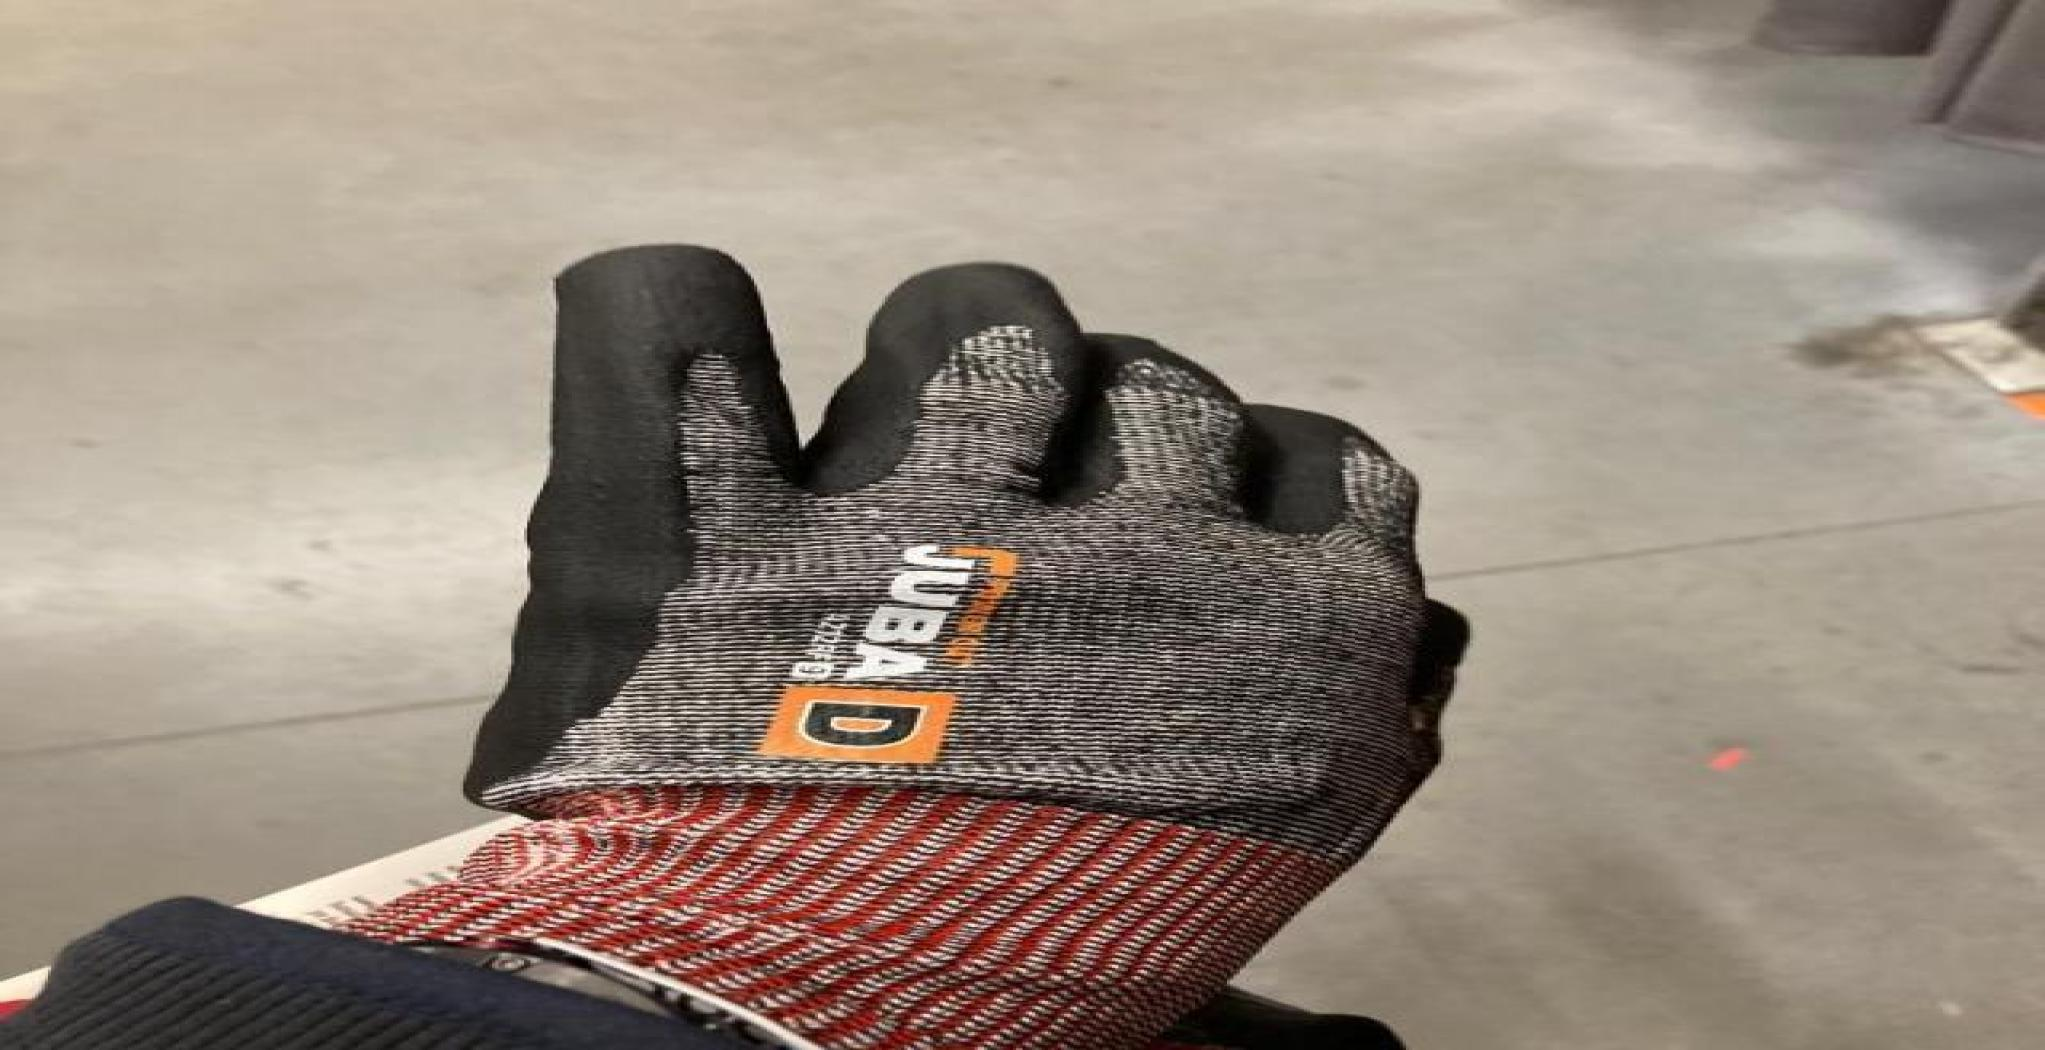gloved: (374, 206, 1566, 1050)
